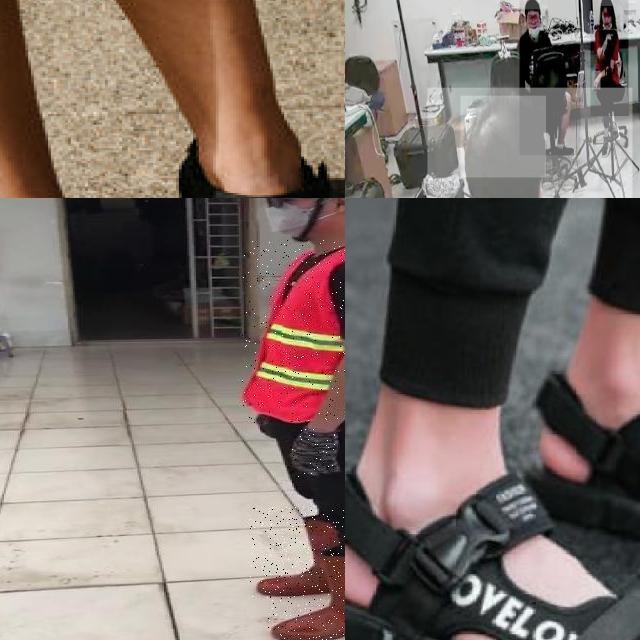No_Ear-Protection: (327, 198, 345, 219)
Sandals: (345, 429, 640, 640), (475, 313, 640, 617)
boots: (250, 507, 345, 600), (268, 552, 345, 640)
hand_noglove: (591, 71, 601, 90)
head_nohelmet: (461, 96, 546, 178), (523, 0, 540, 10), (598, 0, 613, 6)
person: (214, 198, 345, 640), (427, 87, 632, 198), (519, 0, 580, 155), (590, 0, 629, 116)
shoes: (596, 127, 612, 161), (554, 139, 576, 160), (608, 113, 622, 141)
vest: (242, 239, 345, 425)
